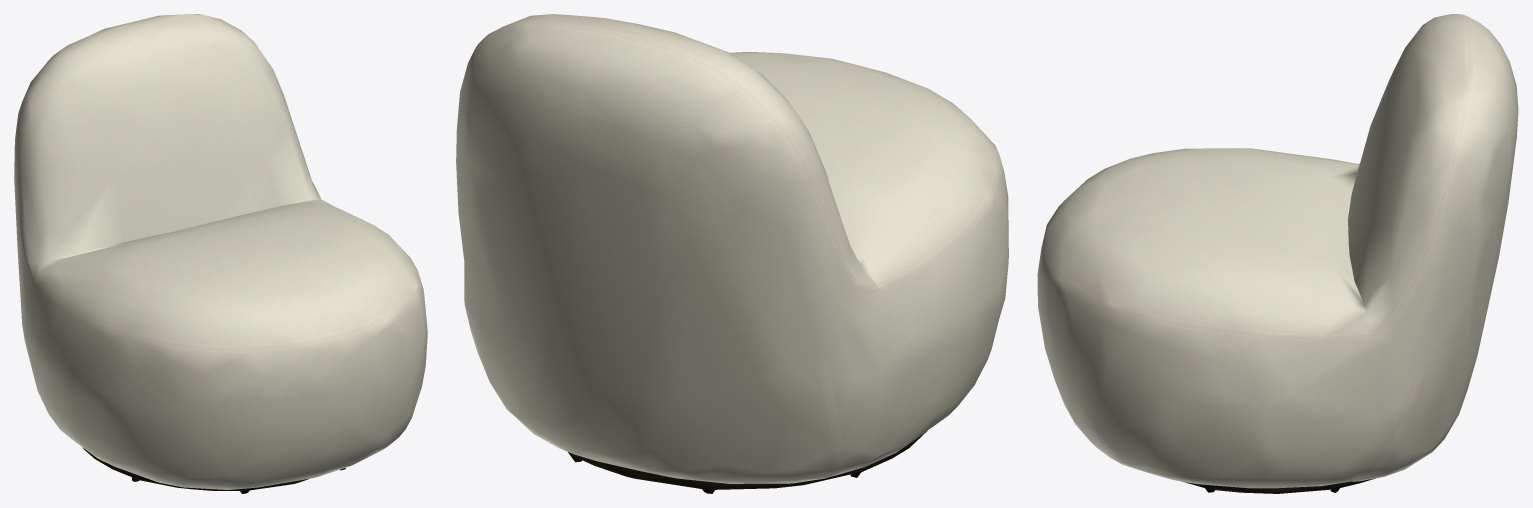
The model's file is lillesater_fotel_obrotowy_00618686.glb.
3 renders of one model, left to right at view 1: azimuth 30°, elevation 25°; view 2: azimuth 150°, elevation 25°; view 3: azimuth 270°, elevation 25°, orthographic. The views are drawn at different scales.
Visible parts, largest first — view 1: lillesater_fotel_obrotowy_00618686; view 2: lillesater_fotel_obrotowy_00618686; view 3: lillesater_fotel_obrotowy_00618686.
Boxes of the visible parts, <box> form: lillesater_fotel_obrotowy_00618686: <box>14,14,427,493</box>; lillesater_fotel_obrotowy_00618686: <box>456,14,1008,493</box>; lillesater_fotel_obrotowy_00618686: <box>1037,14,1518,493</box>.
Size of the model in its own units: 0.7034 by 0.6996 by 0.7973.
1 material, 1 textured.
